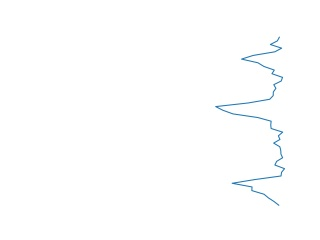underwaterNaturalLevee: (210, 34, 290, 210)
